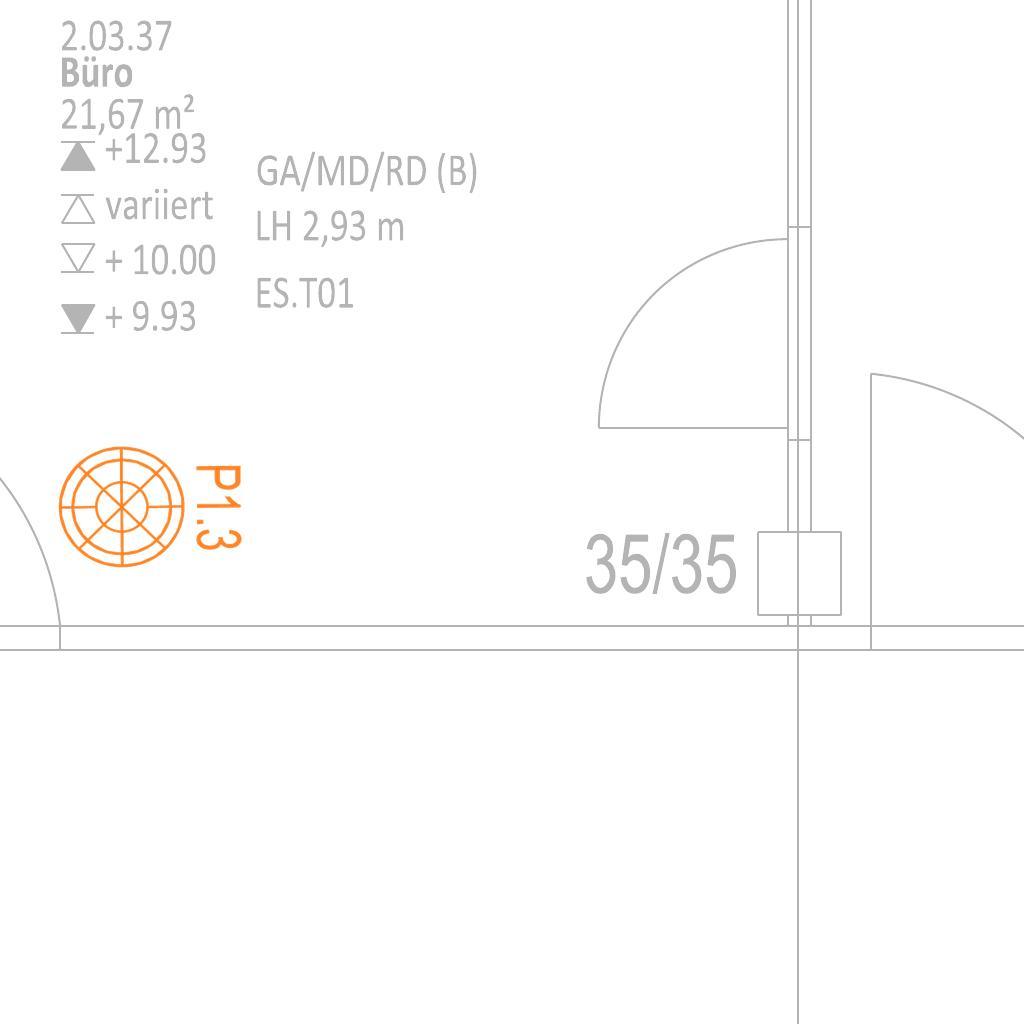Aufbaurundleuchte_LED_Treppenhaus: (55, 443, 260, 582)
